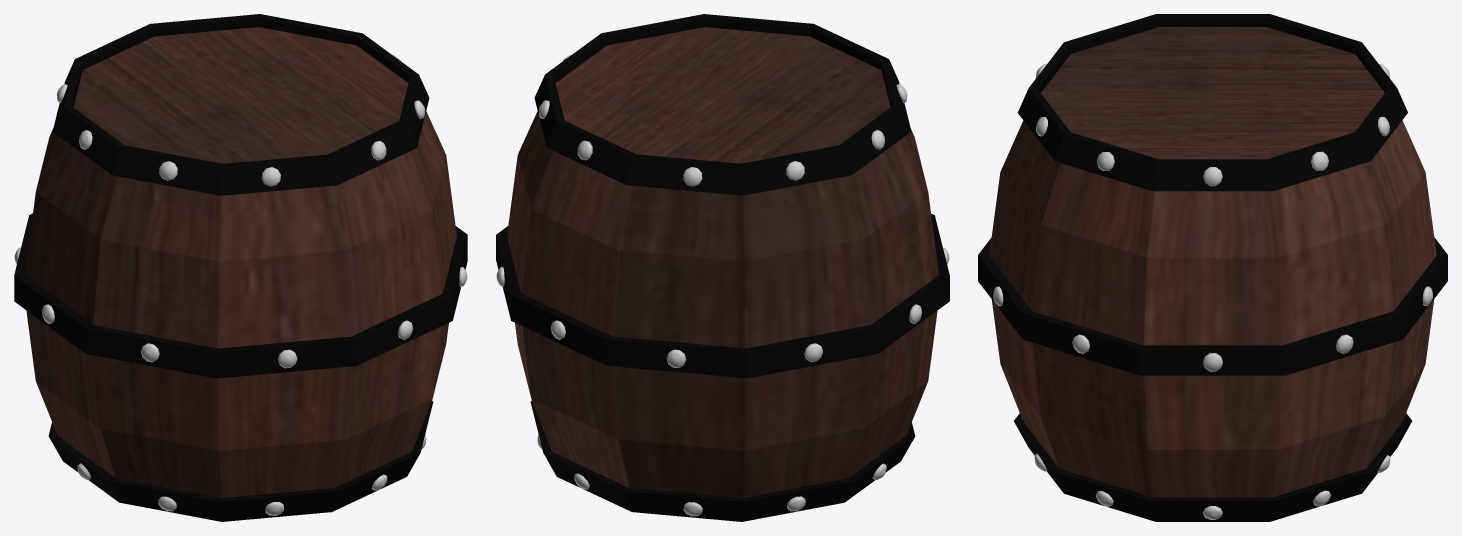
Rendered from TonneauMedieval.fbx.
3 renders of one model, left to right at view 1: azimuth 30°, elevation 25°; view 2: azimuth 150°, elevation 25°; view 3: azimuth 270°, elevation 25°, orthographic.
Parts seen in each view (by area): view 1: TonneauMedieval; view 2: TonneauMedieval; view 3: TonneauMedieval.
Boxes of the visible parts, x1,y1,x2,y2 form: TonneauMedieval: [14, 14, 467, 521]; TonneauMedieval: [496, 14, 949, 521]; TonneauMedieval: [978, 14, 1447, 521].
Bounding box in the file's own units: 83.12 × 71.51 × 84.61.
